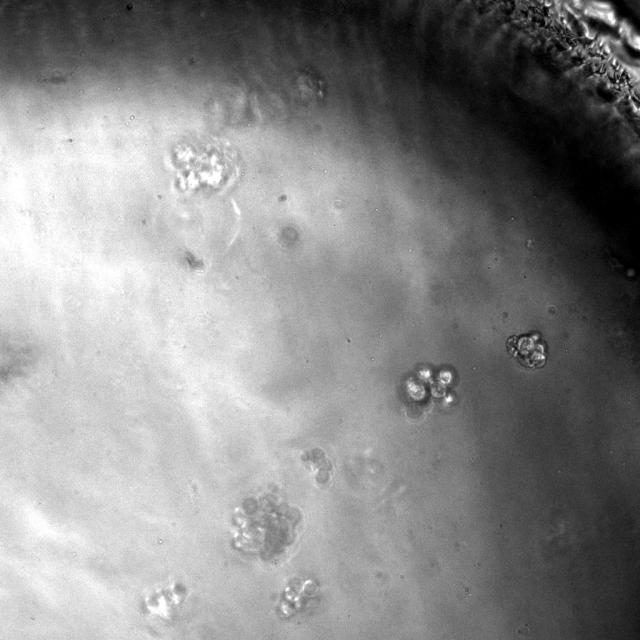organoid: (230, 485, 301, 562), (171, 139, 239, 192), (398, 362, 458, 416), (276, 575, 321, 619), (507, 332, 547, 369), (300, 447, 333, 484)
